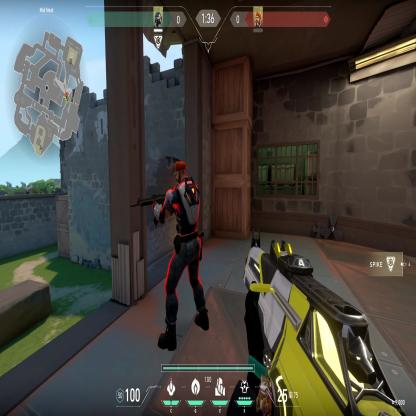enemy: (146, 158, 212, 354)
